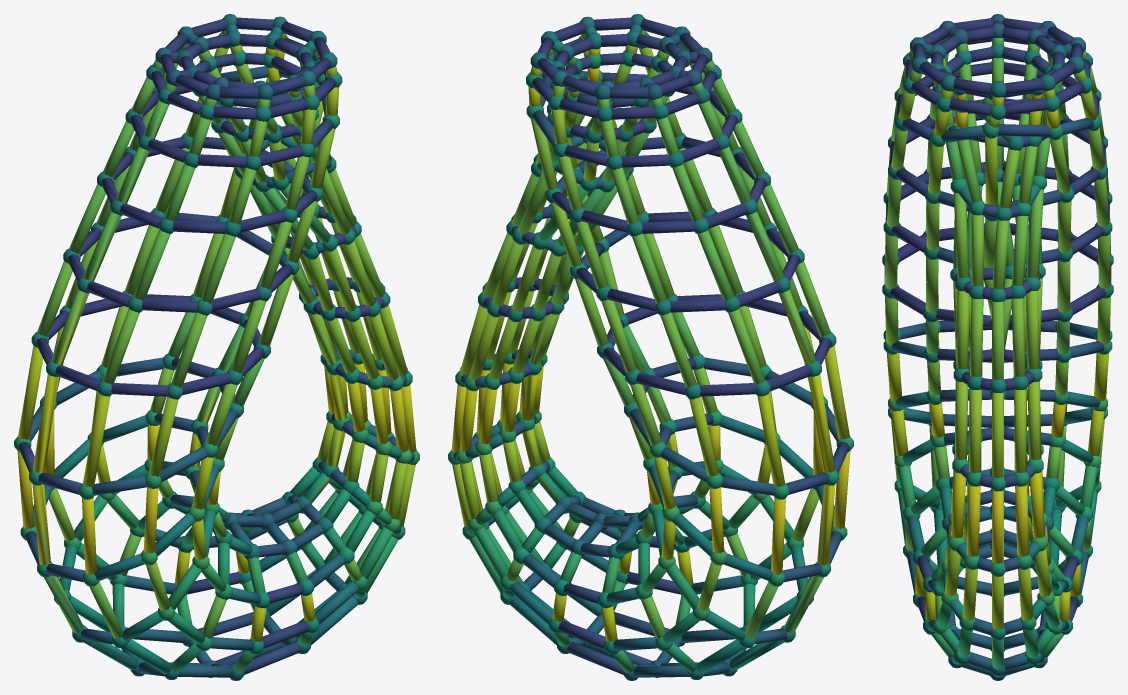
File: klein_bottle_n22x10.glb
3 renders of one model, left to right at view 1: azimuth 30°, elevation 25°; view 2: azimuth 150°, elevation 25°; view 3: azimuth 270°, elevation 25°, orthographic.
Visible parts, largest first — view 1: klein_bottle_frame; view 2: klein_bottle_frame; view 3: klein_bottle_frame.
Part boxes in pixels (<box>): klein_bottle_frame: <box>14,14,419,680</box>; klein_bottle_frame: <box>448,14,853,680</box>; klein_bottle_frame: <box>882,14,1113,680</box>.
Bounding box in the file's own units: 65.68 × 102 × 34.18.
